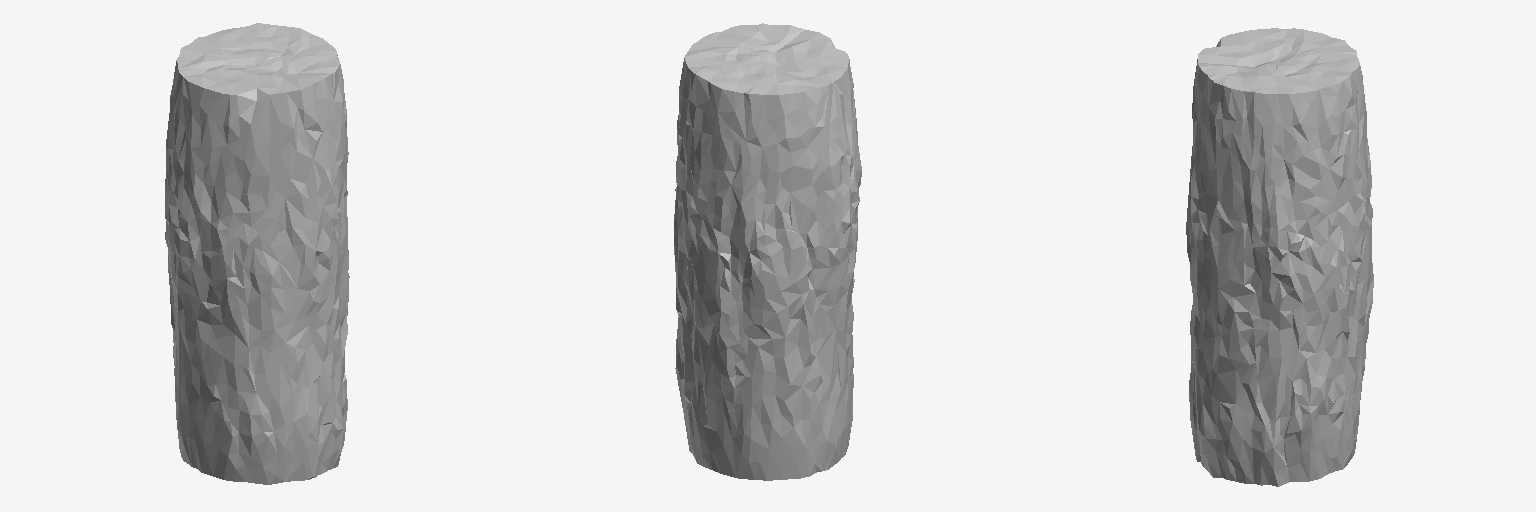
Rendered from Log.obj.
The picture shows the model from 3 angles: view 1: azimuth 30°, elevation 25°; view 2: azimuth 150°, elevation 25°; view 3: azimuth 270°, elevation 25°; orthographic projection.
Parts seen in each view (by area): view 1: Log_Cylinder.004; view 2: Log_Cylinder.004; view 3: Log_Cylinder.004.
Part boxes in pixels (left/top/right/bottom): Log_Cylinder.004: left=165, top=23, right=349, bottom=484; Log_Cylinder.004: left=674, top=23, right=861, bottom=480; Log_Cylinder.004: left=1186, top=28, right=1373, bottom=486.
Bounding box in the file's own units: 0.1594 × 0.3485 × 0.1494.